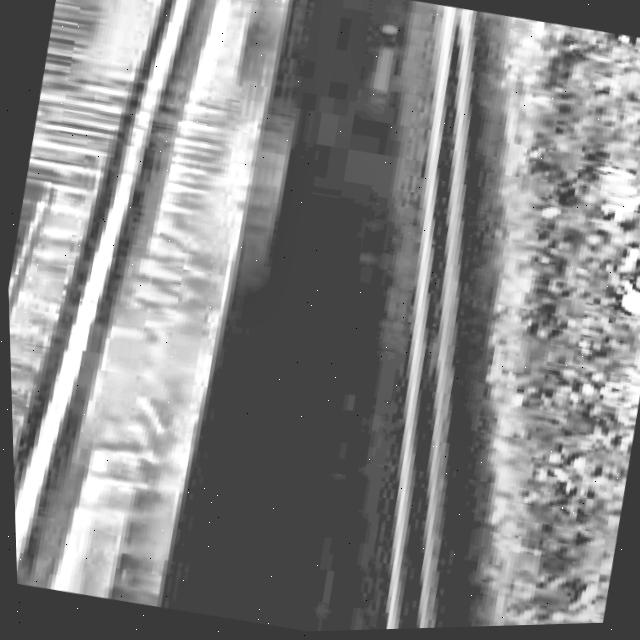Kereta: (3, 115, 304, 623), (24, 0, 333, 216)
